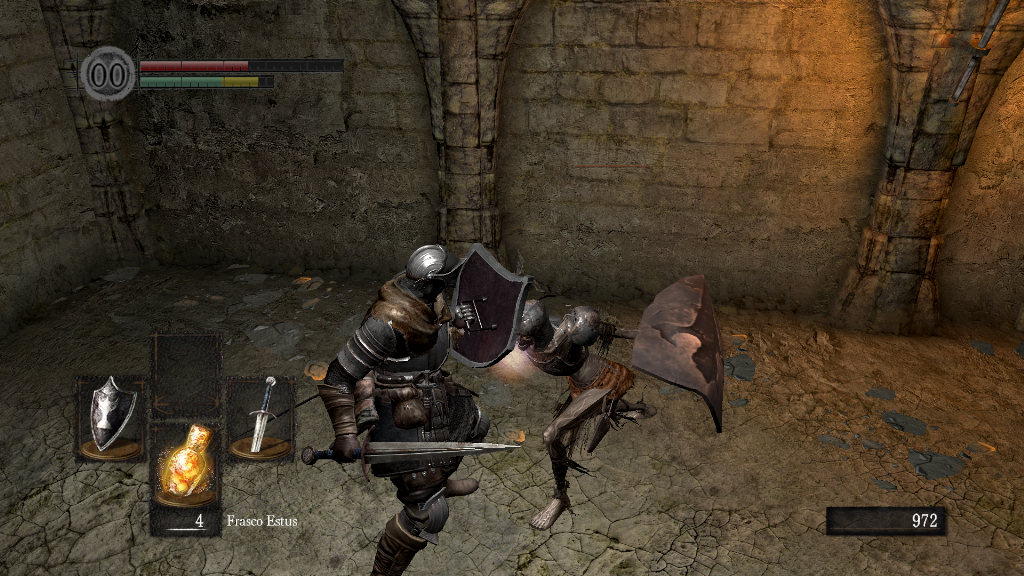health: (138, 58, 343, 71)
humanity: (80, 45, 136, 102)
player: (298, 239, 537, 576)
souls: (825, 506, 945, 536)
stamina: (138, 74, 274, 88)
undeadSoldier: (516, 274, 660, 531)
